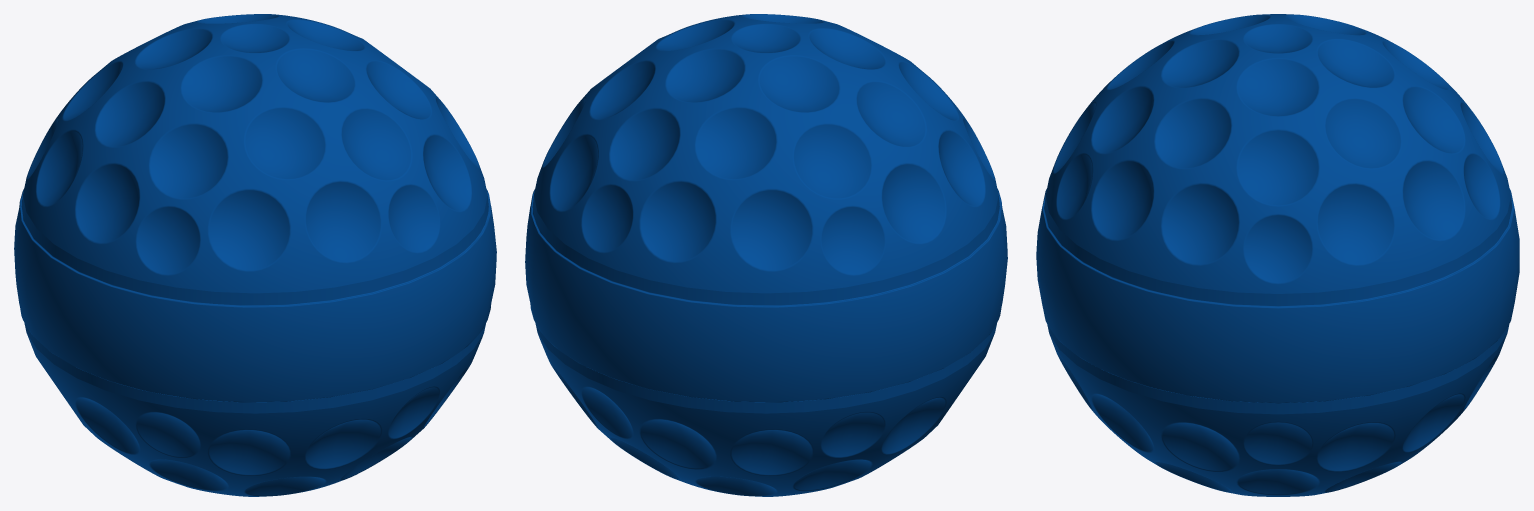
Rendered from Ball_uncollapsed.fbx.
3 renders of one model, left to right at view 1: azimuth 30°, elevation 25°; view 2: azimuth 150°, elevation 25°; view 3: azimuth 270°, elevation 25°, orthographic.
Parts seen in each view (by area): view 1: 276-6498-015 Rev1; view 2: 276-6498-015 Rev1; view 3: 276-6498-015 Rev1.
Part boxes in pixels (box(x1,y1,x2,y2)): 276-6498-015 Rev1: box(14, 14, 496, 496); 276-6498-015 Rev1: box(525, 14, 1007, 496); 276-6498-015 Rev1: box(1036, 14, 1519, 496).
Size of the model in its own units: 16 by 15.83 by 15.98.
